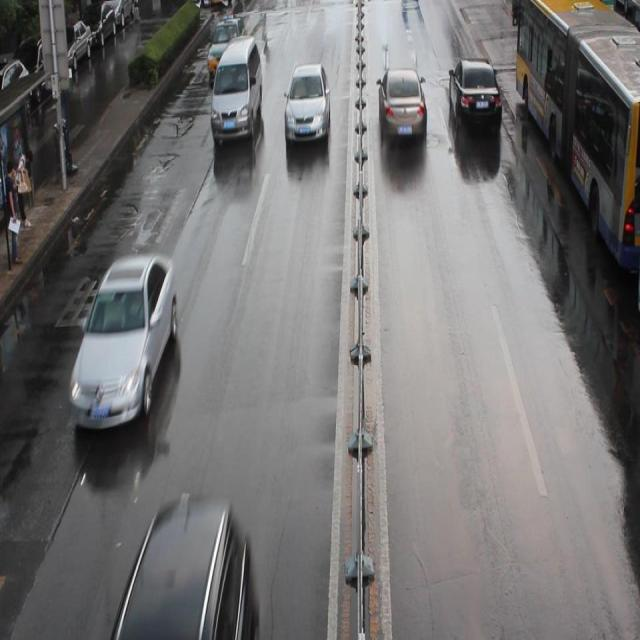car: (113, 500, 255, 640), (68, 253, 179, 432), (448, 57, 502, 130), (282, 65, 330, 145), (377, 66, 427, 138), (207, 16, 248, 79)
truck: (211, 37, 262, 146)
van: (514, 1, 640, 267)
